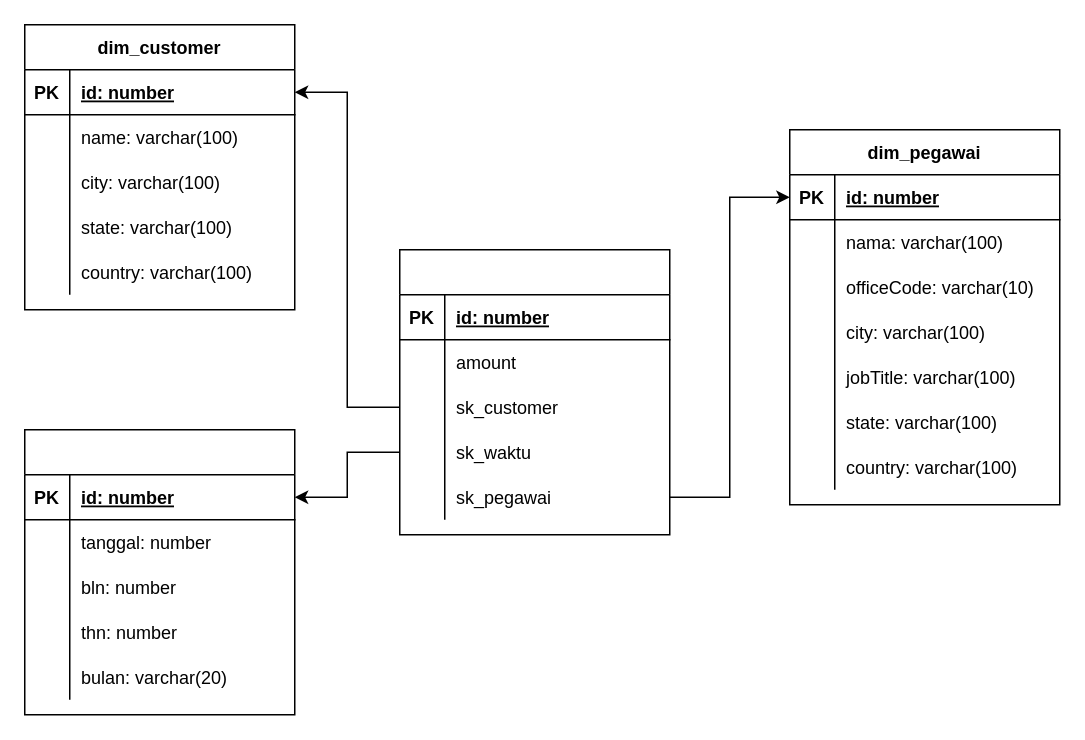
This 1085x740 diagram has some shape labels left out. The box of each missing label's shape, as (x1, y1, x2, y2) in pixels:
dim_waktu: (23, 428, 295, 715)
fakta_pembayaran: (398, 248, 670, 535)
